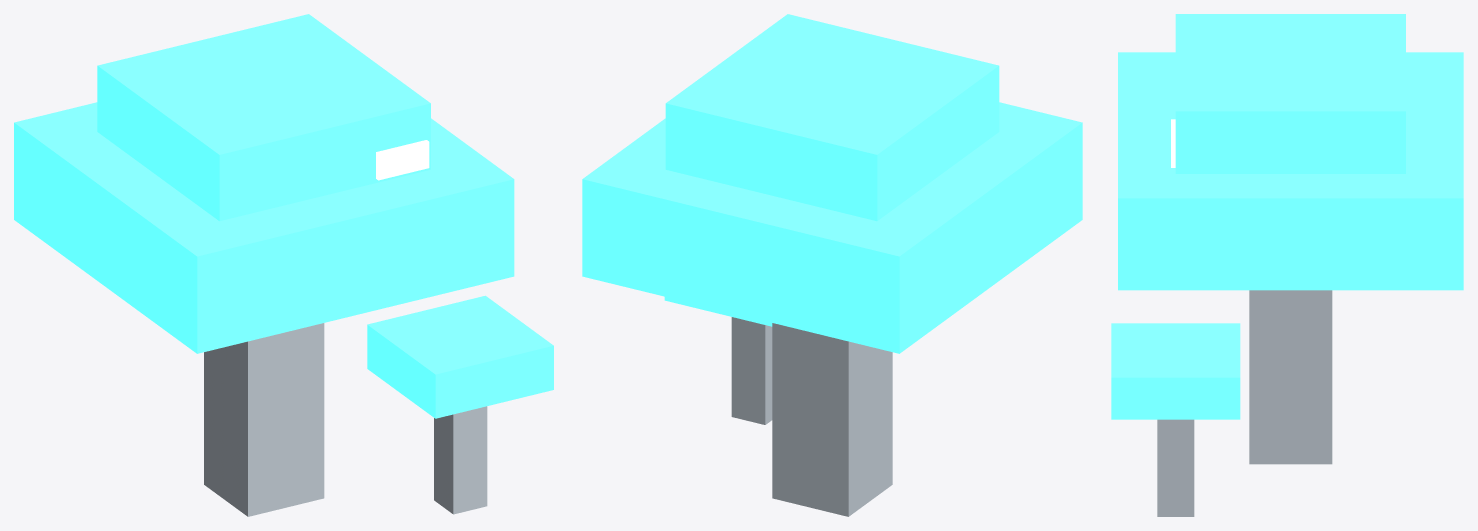
Rendered from dba-glow-mushroom.glb.
3 views of the same model, side by side, from view 1: azimuth 30°, elevation 25°; view 2: azimuth 150°, elevation 25°; view 3: azimuth 270°, elevation 25° (orthographic). The views are drawn at different scales.
Visible parts, largest first — view 1: box-prop; view 2: box-prop; view 3: box-prop.
Boxes of the visible parts, bbox=[...] form: box-prop: bbox=[14, 14, 553, 516]; box-prop: bbox=[582, 14, 1082, 516]; box-prop: bbox=[1111, 14, 1463, 516].
Size of the model in its own units: 1 by 1.1 by 0.918.
